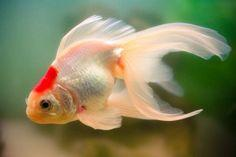goldfish: (23, 44, 158, 128)
